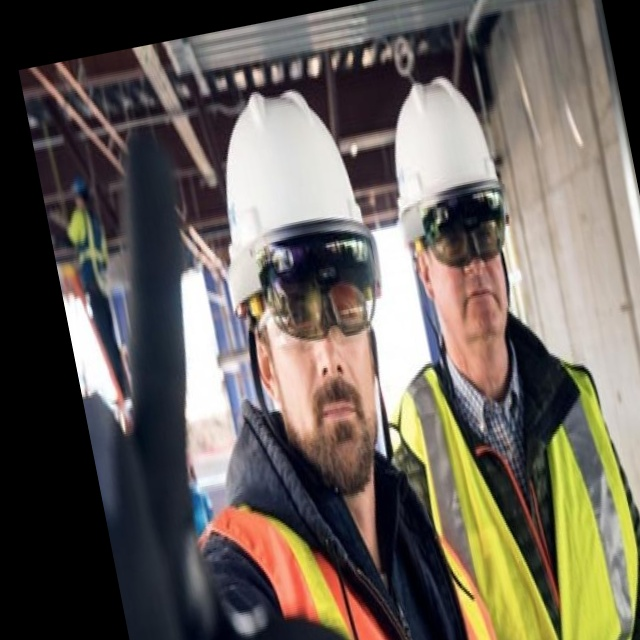Con_Casco: (194, 75, 419, 497)
Con_Chaleco: (406, 323, 640, 640)
